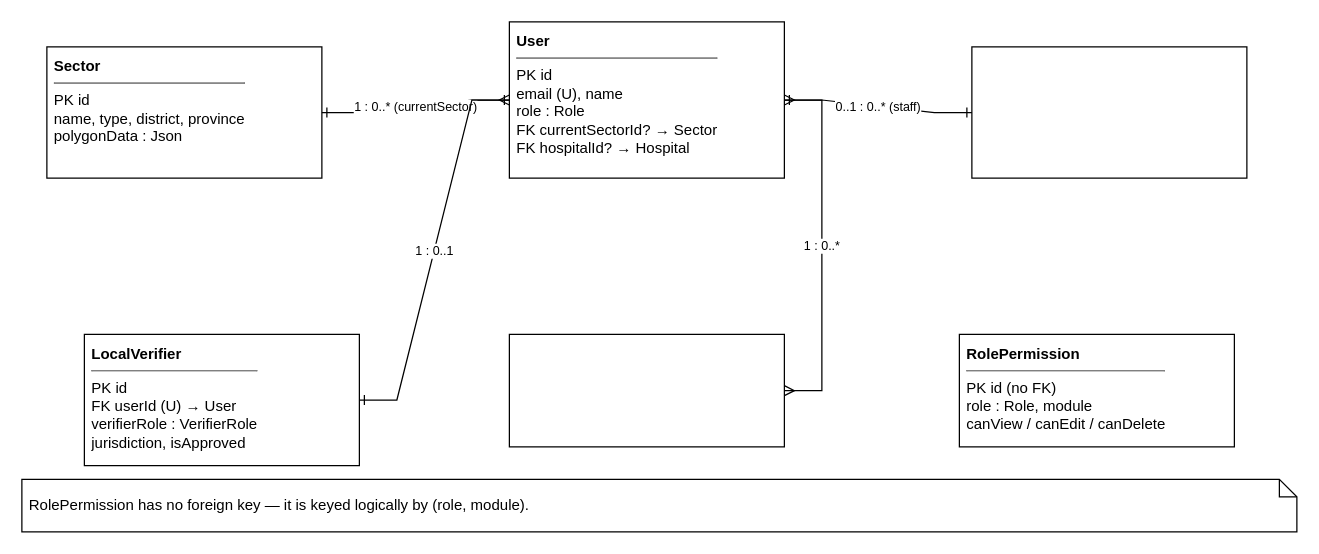
This 1319x554 diagram has some shape labels left out. Here are the shapes that lost their labels. From the top down, the centre of each, then its label:
At (1109,112): "Hospital PK id name, email (U) totalBeds, availableBeds, isActive".
At (646,390): "UserSessionLog PK id FK userId → User ipAddress, device, loginTime".
